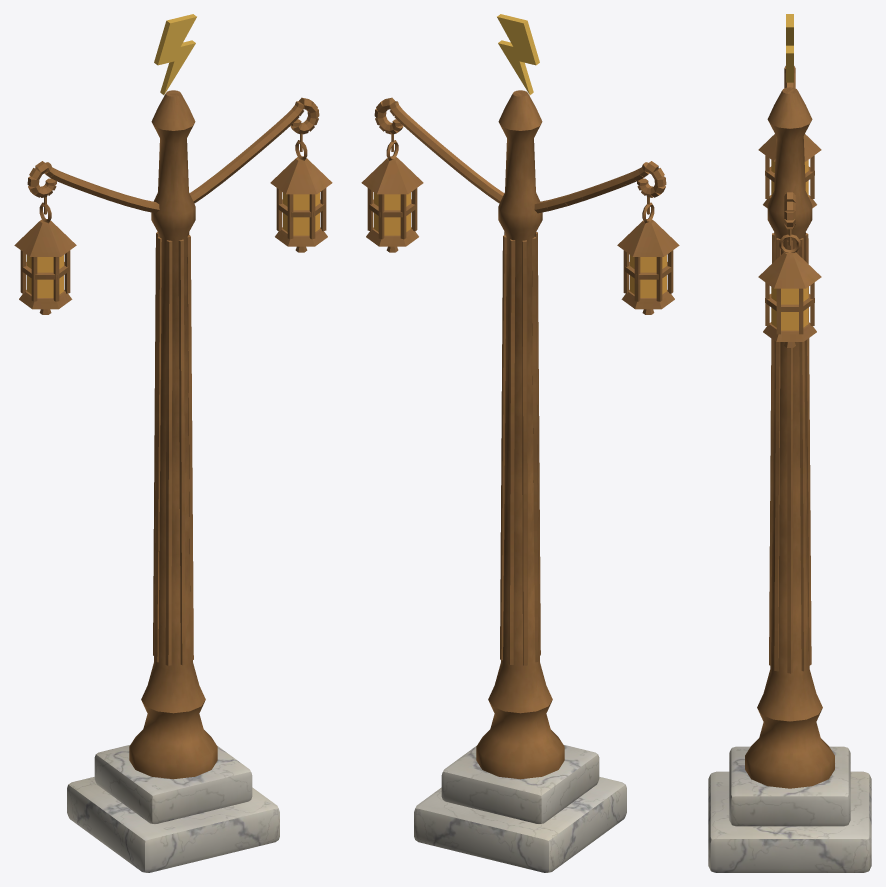
File: infra_street-lamp_t1.glb
The picture shows the model from 3 angles, left to right: view 1: azimuth 30°, elevation 25°; view 2: azimuth 150°, elevation 25°; view 3: azimuth 270°, elevation 25°; orthographic projection.
Parts seen in each view (by area): view 1: bronze, marble, flame, gold; view 2: bronze, marble, flame, gold; view 3: bronze, marble, flame, gold.
Part boxes in pixels (x1,y1,x2,y2): bronze: (14, 90, 332, 779); marble: (67, 744, 279, 872); flame: (27, 192, 319, 297); gold: (154, 14, 196, 94); bronze: (361, 90, 679, 779); marble: (414, 744, 626, 872); flame: (374, 192, 666, 297); gold: (497, 14, 539, 94); bronze: (745, 66, 834, 788); marble: (708, 746, 871, 872); flame: (771, 160, 808, 330); gold: (786, 14, 793, 82).
Bounding box in the file's own units: 1.35 × 3.45 × 0.62.
Materials: 4 (2 with a texture image).
